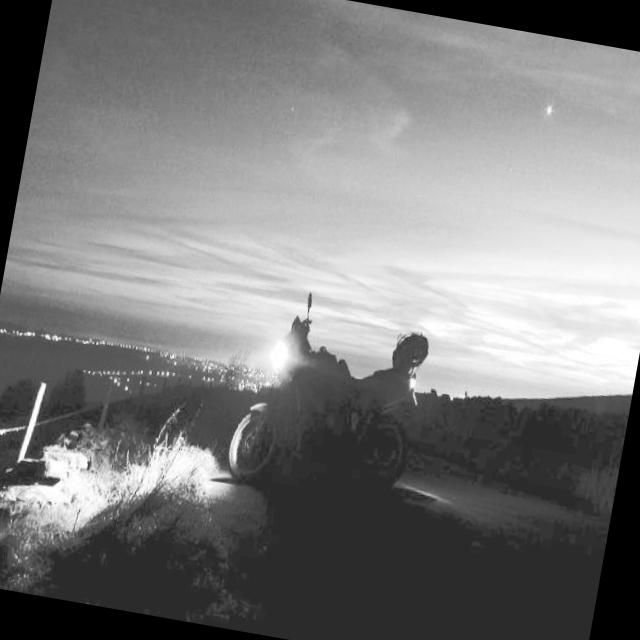Motorcycle: (218, 281, 444, 518)
